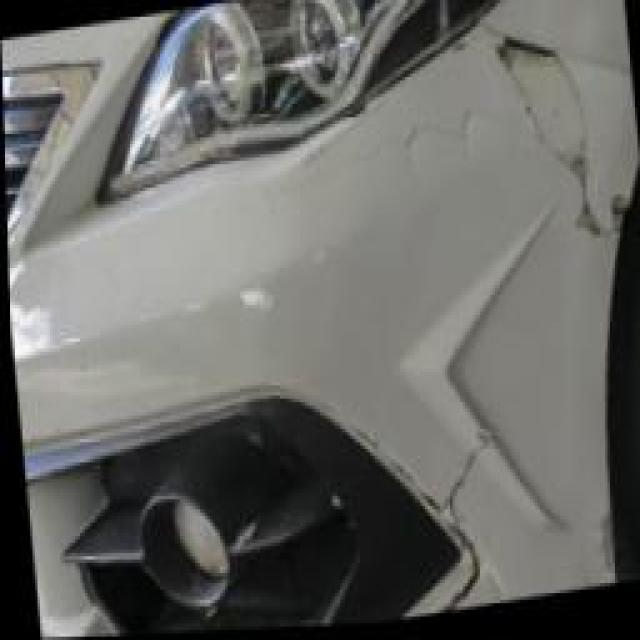Bumper: (348, 345, 570, 625)
Fender: (362, 0, 639, 344)
